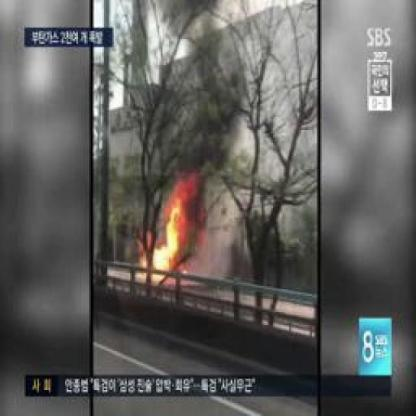fire: (144, 195, 189, 285)
